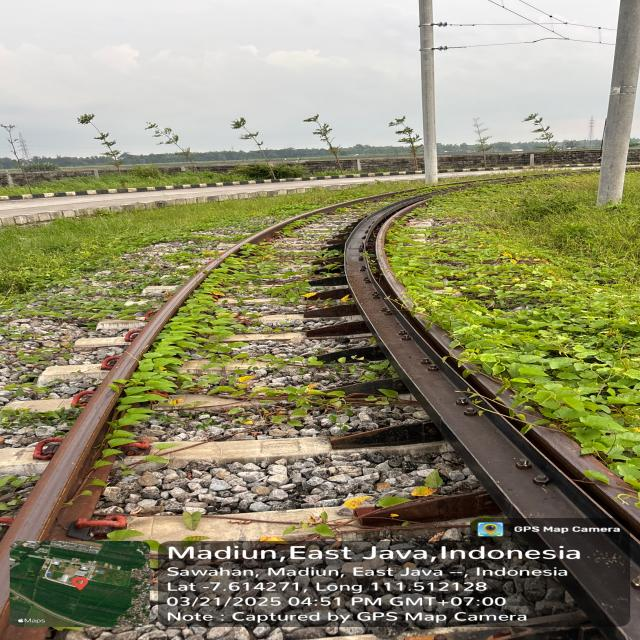rail-detection: (0, 200, 361, 607), (345, 201, 602, 519), (0, 271, 206, 600), (568, 537, 637, 627), (376, 210, 414, 310)
